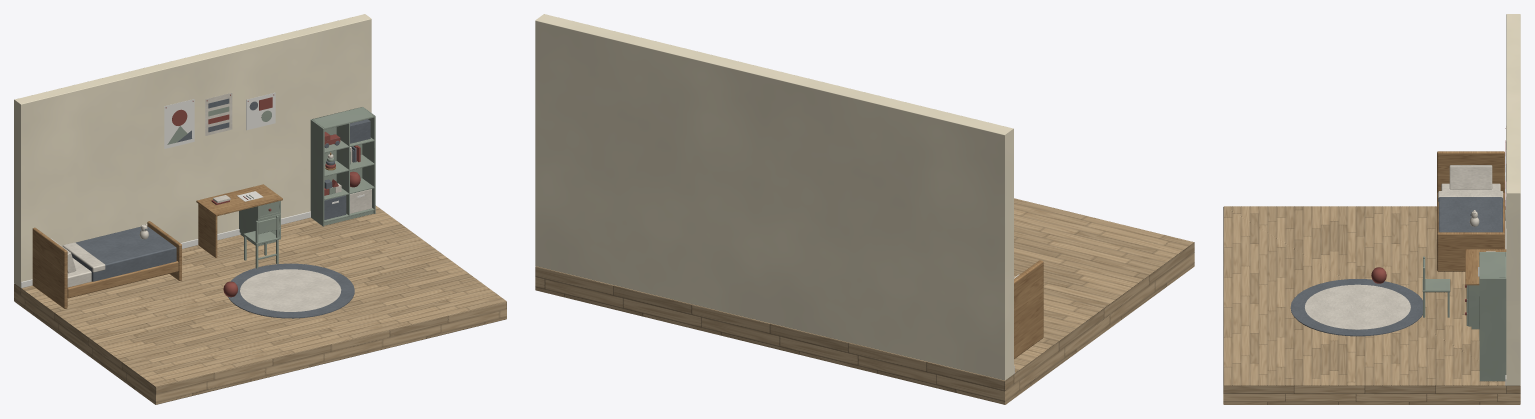
File: Room_KidRoom.fbx
3 views of the same model, side by side, from view 1: azimuth 30°, elevation 25°; view 2: azimuth 150°, elevation 25°; view 3: azimuth 270°, elevation 25° (orthographic). The views are drawn at different scales.
Visible parts, largest first — view 1: KidRoom_BackWall, KidRoom_Floor, KidRoom_Bed, KidRoom_Rug, KidRoom_ToyShelf, KidRoom_Posters, KidRoom_Toys, KidRoom_Desk, KidRoom_Chair, KidRoom_DeskDrawers; view 2: KidRoom_BackWall, KidRoom_Floor, KidRoom_Bed; view 3: KidRoom_Floor, KidRoom_Bed, KidRoom_Rug, KidRoom_BackWall, KidRoom_ToyShelf, KidRoom_Bedding, KidRoom_Chair, KidRoom_DeskDrawers, KidRoom_Desk.
Boxes of the visible parts, left/top/right/bottom form: KidRoom_BackWall: left=14, top=14, right=371, bottom=288; KidRoom_Floor: left=14, top=205, right=506, bottom=404; KidRoom_Bed: left=32, top=221, right=181, bottom=308; KidRoom_Rug: left=228, top=263, right=354, bottom=318; KidRoom_ToyShelf: left=310, top=107, right=375, bottom=226; KidRoom_Posters: left=164, top=92, right=275, bottom=148; KidRoom_Toys: left=324, top=119, right=371, bottom=219; KidRoom_Desk: left=196, top=184, right=282, bottom=257; KidRoom_Chair: left=243, top=215, right=279, bottom=268; KidRoom_DeskDrawers: left=239, top=201, right=280, bottom=245; KidRoom_BackWall: left=535, top=14, right=1014, bottom=380; KidRoom_Floor: left=535, top=198, right=1194, bottom=404; KidRoom_Bed: left=1014, top=260, right=1043, bottom=358; KidRoom_Floor: left=1223, top=206, right=1520, bottom=404; KidRoom_Bed: left=1437, top=151, right=1504, bottom=271; KidRoom_Rug: left=1290, top=279, right=1422, bottom=336; KidRoom_BackWall: left=1505, top=14, right=1520, bottom=385; KidRoom_ToyShelf: left=1479, top=252, right=1506, bottom=381; KidRoom_Bedding: left=1449, top=165, right=1492, bottom=226; KidRoom_Chair: left=1422, top=256, right=1450, bottom=317; KidRoom_DeskDrawers: left=1465, top=285, right=1479, bottom=329; KidRoom_Desk: left=1465, top=249, right=1506, bottom=285.
Size of the model in its own units: 600 by 330 by 420.
Materials: 8 (6 with a texture image).
